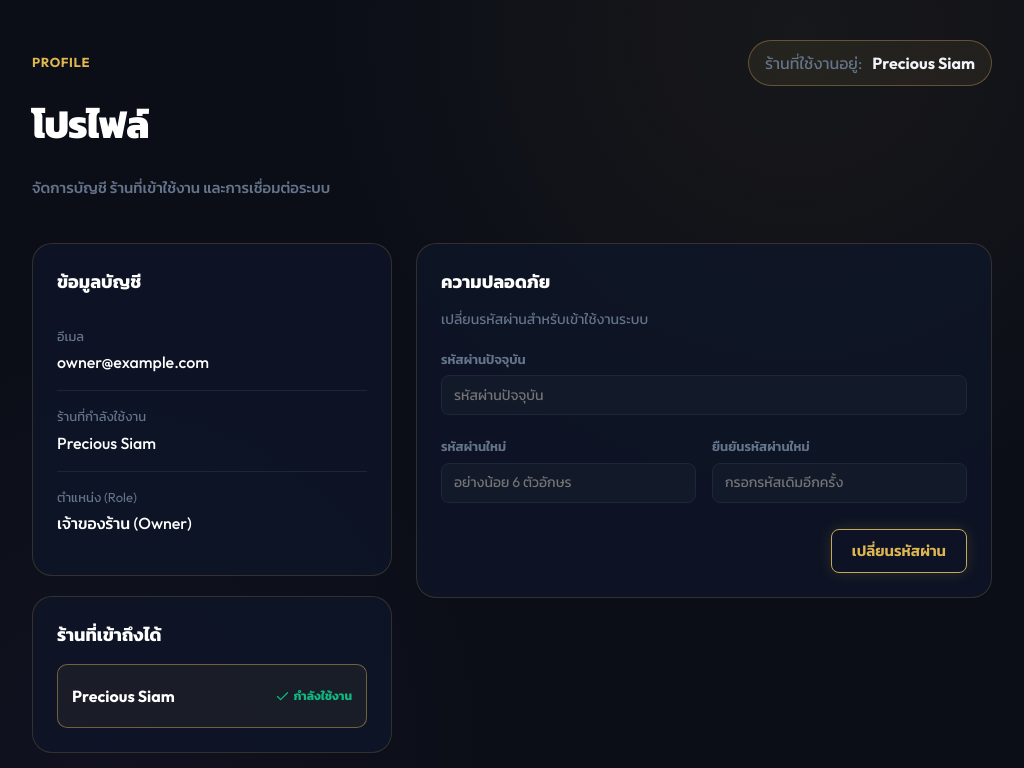
Test: ProfilePage › validates the password confirmation before submitting
In the password field labelled "รหัสผ่านปัจจุบัน": (704, 395) left=441, top=375, right=967, bottom=415, type "old-secret"
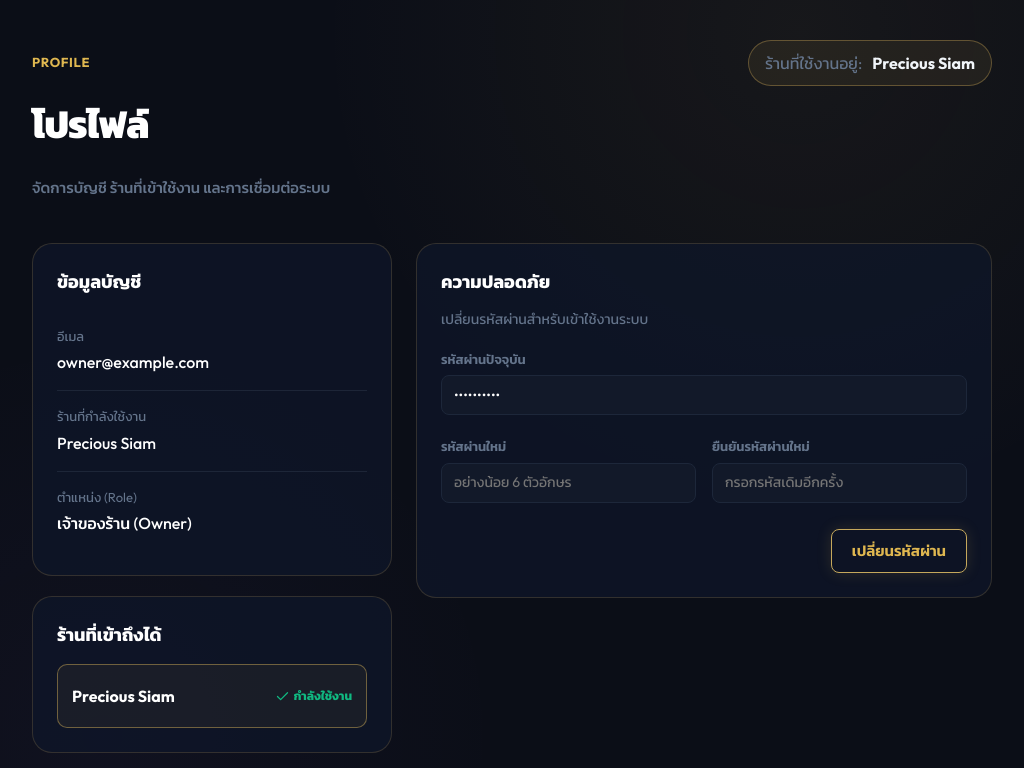
In the password field labelled "รหัสผ่านใหม่": (568, 483) left=441, top=463, right=696, bottom=503, type "secret123"
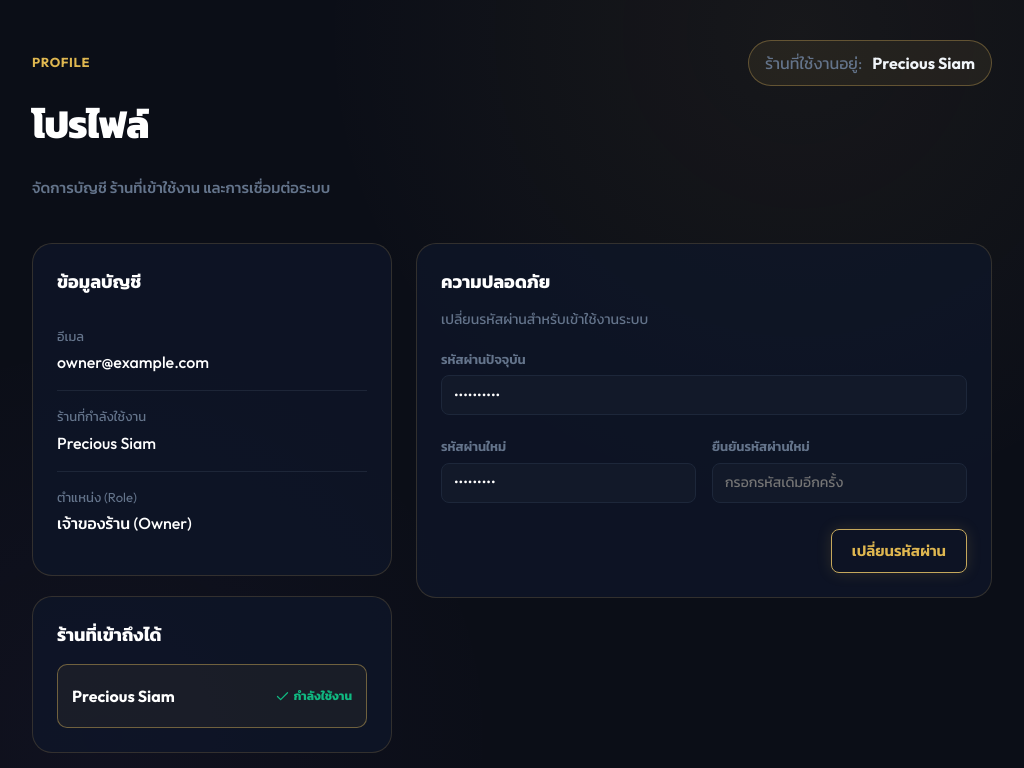
In the password field labelled "ยืนยันรหัสผ่านใหม่": (840, 483) left=712, top=463, right=967, bottom=503, type "secret999"
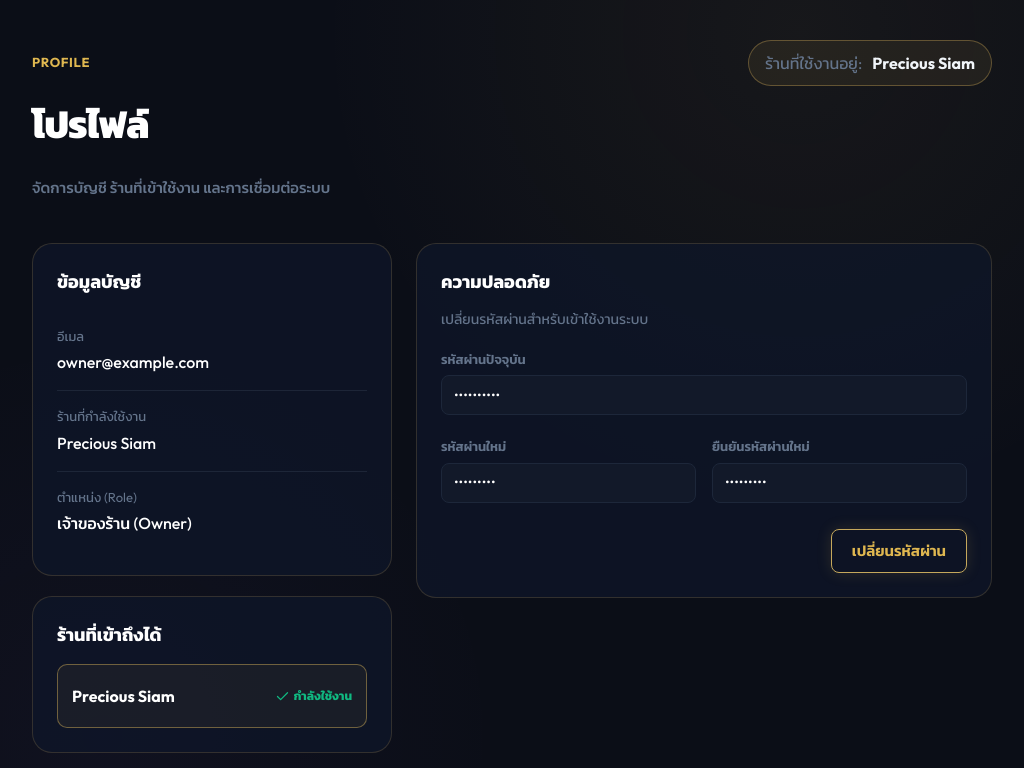
Click the button "เปลี่ยนรหัสผ่าน": (899, 551) left=831, top=529, right=967, bottom=573
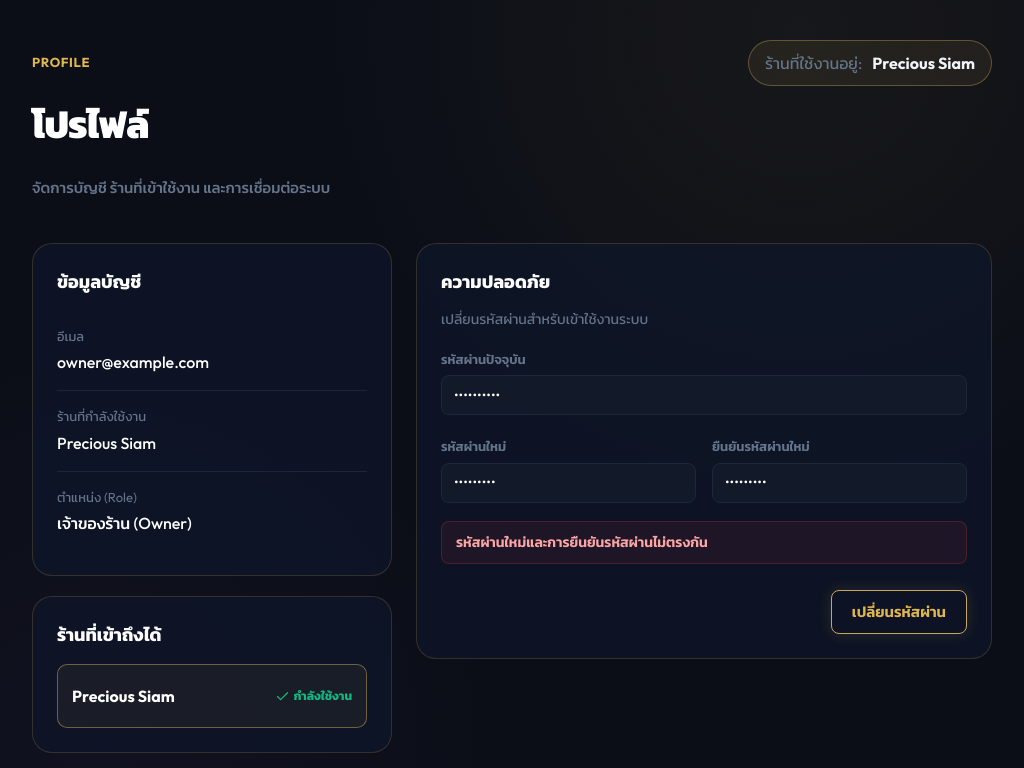
Expected: the text "รหัสผ่านใหม่และการยืนยันรหัสผ่านไม่ตรงกัน" is shown, left=441, top=521, right=967, bottom=564
